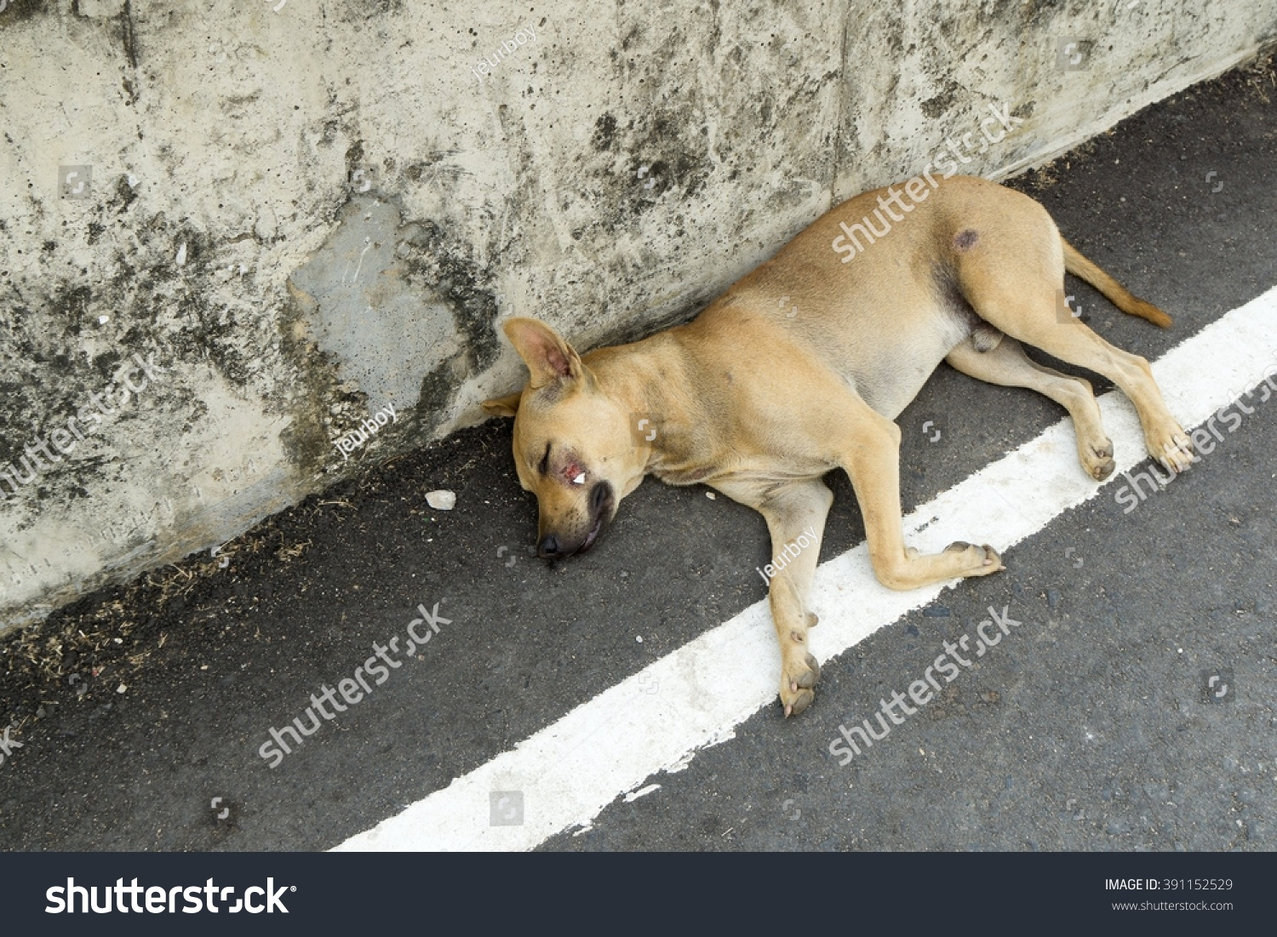Dog: (409, 125, 1228, 725)
